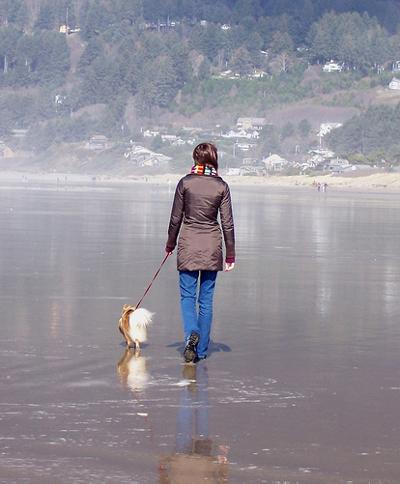person: (164, 144, 234, 363)
